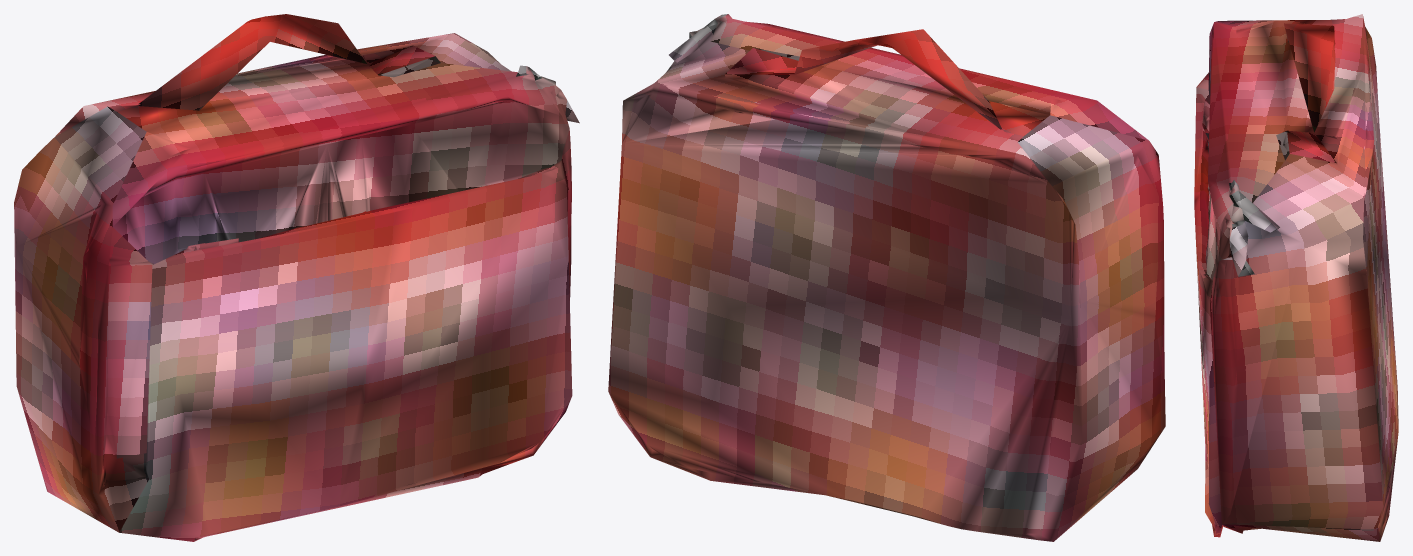
File: Paul_Frank_Dot_Lunch_Box-low.glb
3 renders of one model, left to right at view 1: azimuth 30°, elevation 25°; view 2: azimuth 150°, elevation 25°; view 3: azimuth 270°, elevation 25°, orthographic. The views are drawn at different scales.
Parts seen in each view (by area): view 1: Paul_Frank_Dot_Lunch_Box; view 2: Paul_Frank_Dot_Lunch_Box; view 3: Paul_Frank_Dot_Lunch_Box.
Part boxes in pixels (box(x1,y1,x2,y2)): Paul_Frank_Dot_Lunch_Box: box(14, 14, 579, 541); Paul_Frank_Dot_Lunch_Box: box(608, 14, 1165, 541); Paul_Frank_Dot_Lunch_Box: box(1194, 14, 1398, 541).
Size of the model in its own units: 0.2597 by 0.2273 by 0.099.
Materials: 1 (1 with a texture image).
